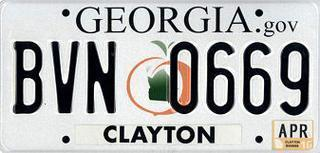placa de veiculo: (5, 4, 313, 147)
